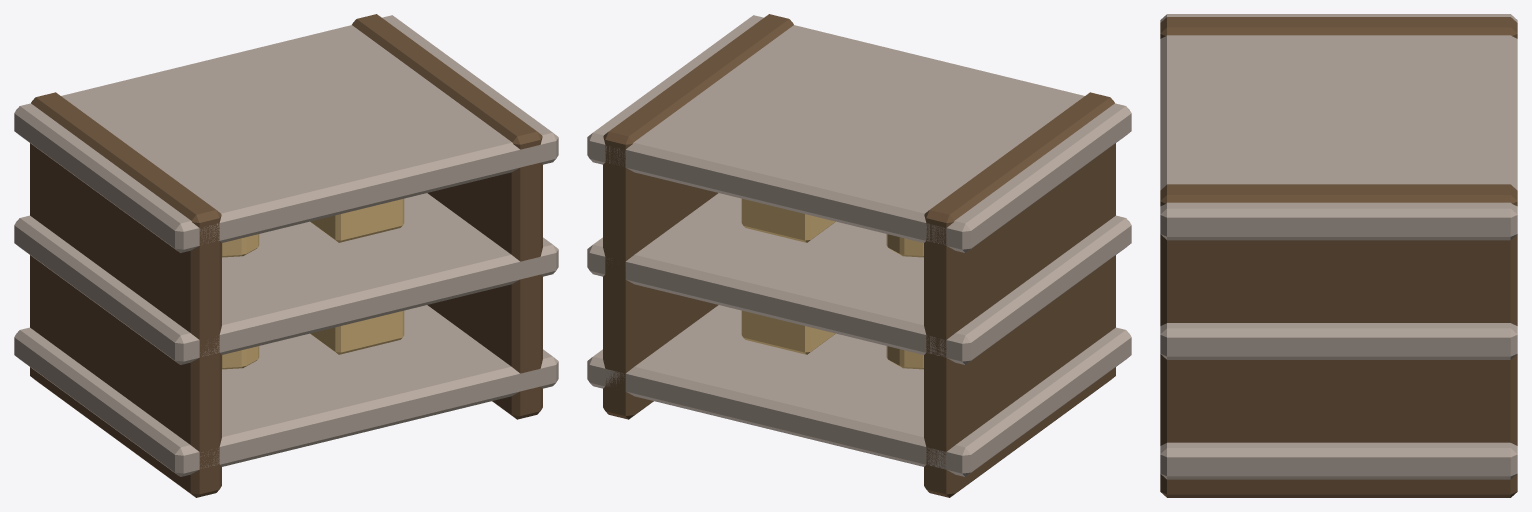
File: town_produce_crate.lod1.glb
The picture shows the model from 3 angles, left to right: view 1: azimuth 30°, elevation 25°; view 2: azimuth 150°, elevation 25°; view 3: azimuth 270°, elevation 25°; orthographic projection. The views are drawn at different scales.
Size of the model in its own units: 1.22 by 0.86 by 0.92.
